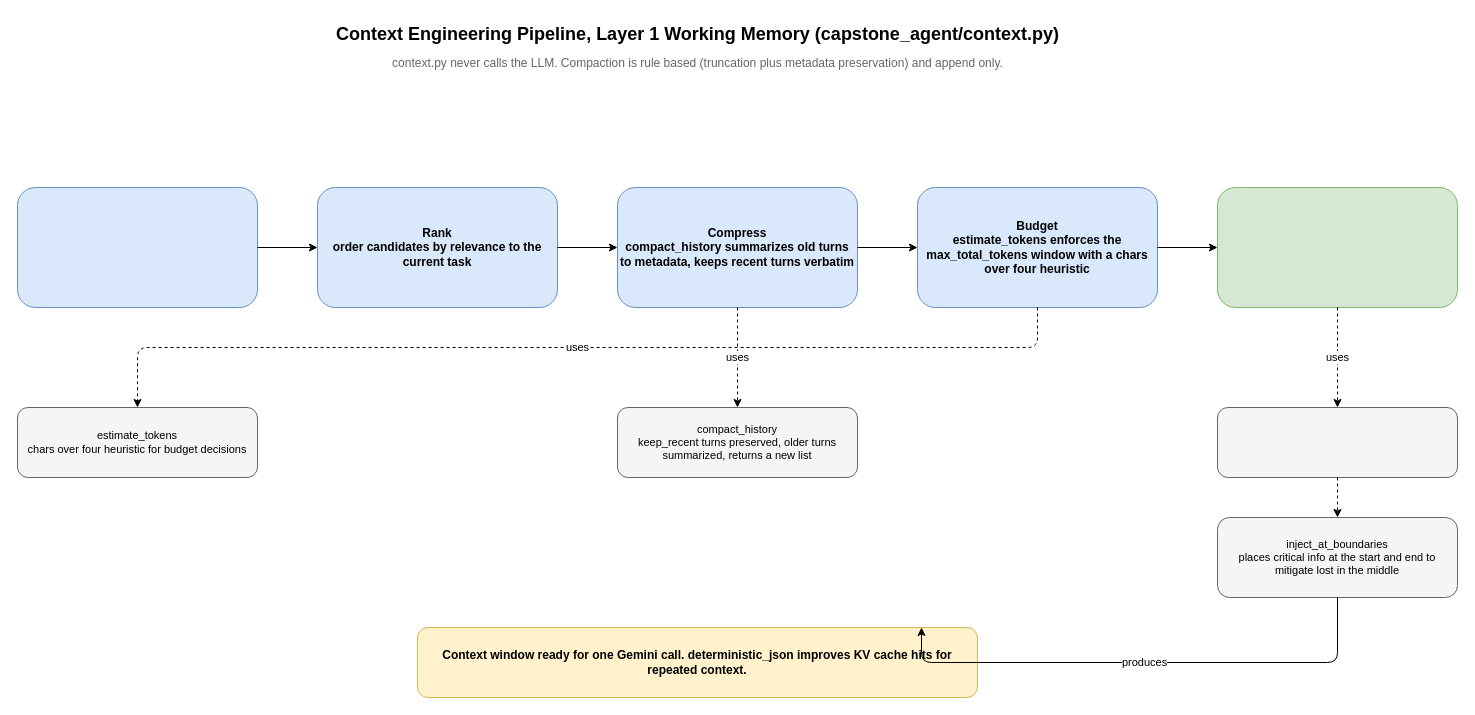
Some shapes in this 1475 by 715 pixel diagram are drawn without their labels. Each missing label, with the centre of its shape:
Assemble build_structured_context lays out XML delimited sections: point (1337, 247)
build_structured_context role, environment, task, and constraints sections: point (1337, 442)
Collect gather candidate turns, tool results, and environment facts: point (137, 247)
